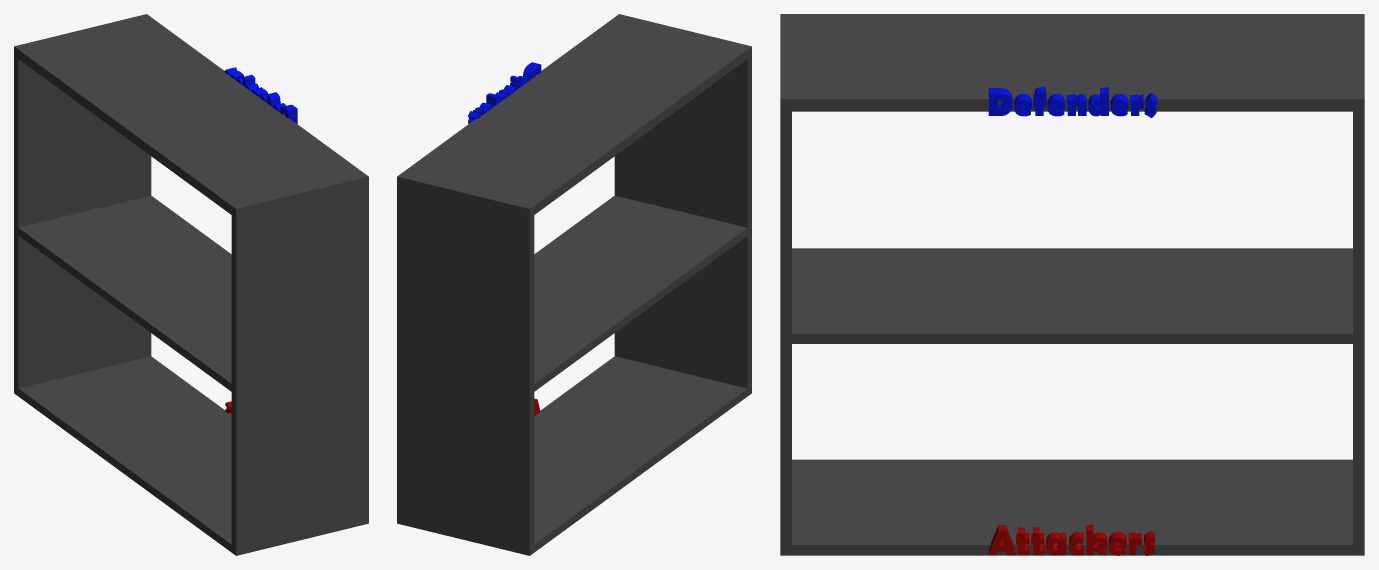
The model's file is shelf.fbx.
3 views of the same model, side by side, from view 1: azimuth 30°, elevation 25°; view 2: azimuth 150°, elevation 25°; view 3: azimuth 270°, elevation 25° (orthographic). The views are drawn at different scales.
Parts seen in each view (by area): view 1: Cube.001, Defenders; view 2: Cube.001, Defenders; view 3: Cube.001, Defenders, Attackers.
Boxes of the visible parts, x1=… form: Cube.001: x1=14, y1=14, x2=368, y2=555; Defenders: x1=224, y1=67, x2=297, y2=123; Cube.001: x1=397, y1=14, x2=751, y2=555; Defenders: x1=468, y1=62, x2=541, y2=123; Cube.001: x1=780, y1=14, x2=1364, y2=555; Defenders: x1=988, y1=86, x2=1157, y2=117; Attackers: x1=988, y1=524, x2=1155, y2=555.
Size of the model in its own units: 733 by 1771 by 2004.
